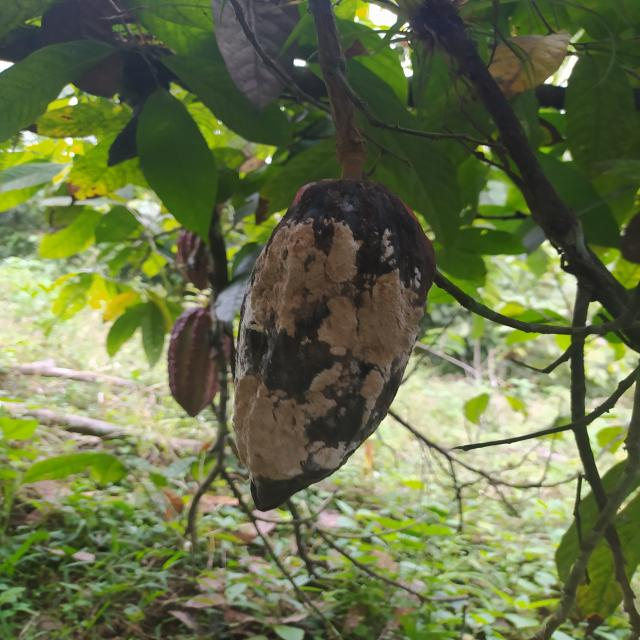Monilia: (226, 176, 438, 513)
Sana: (166, 305, 232, 417)
